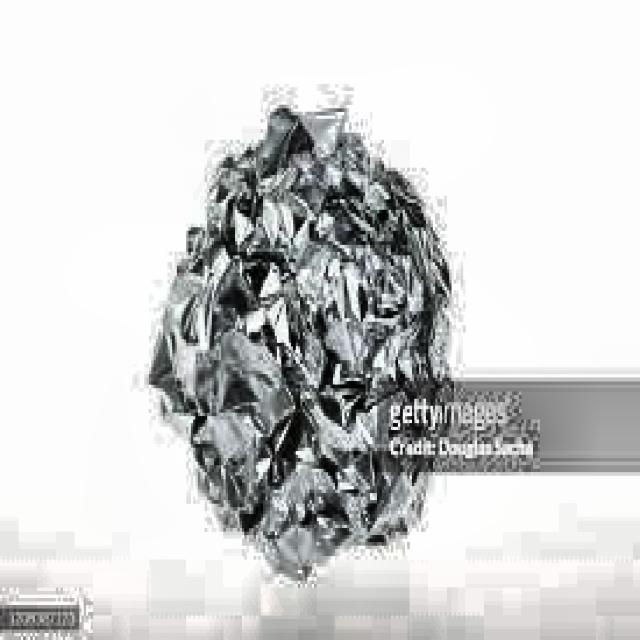Foil: (138, 108, 493, 586)
